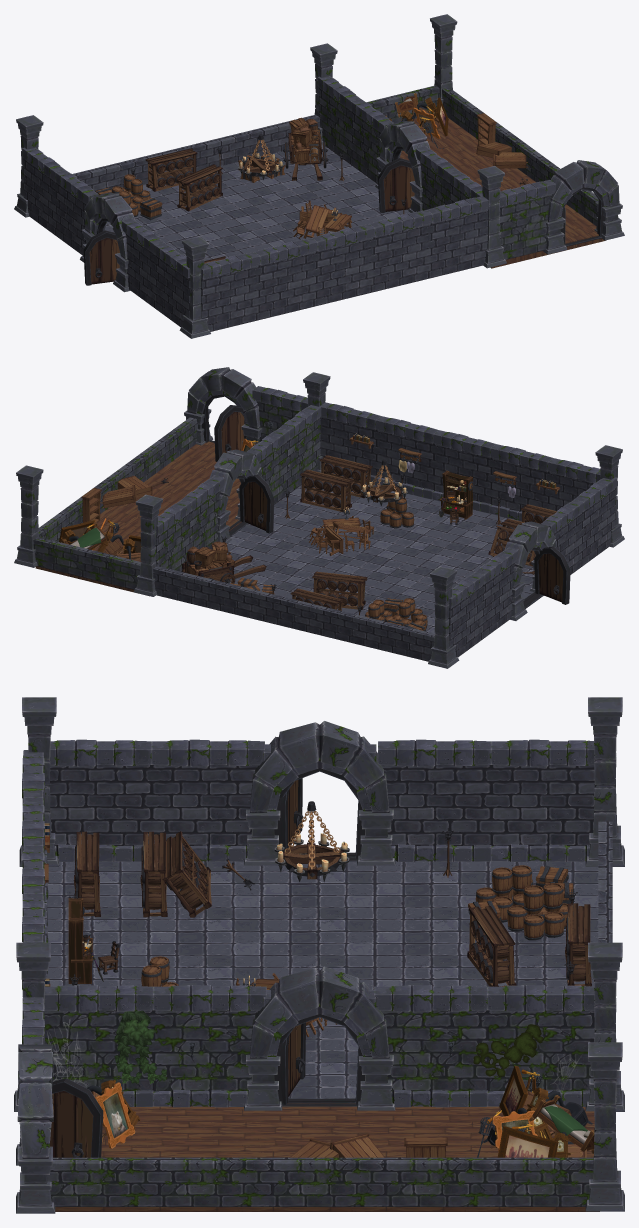
The model's file is StorageRoomAssets.gltf.
The picture shows the model from 3 angles, top to bottom: view 1: azimuth 30°, elevation 25°; view 2: azimuth 150°, elevation 25°; view 3: azimuth 270°, elevation 25°; orthographic projection. The views are drawn at different scales.
Visible parts, largest first — view 1: P_MOD_Wall_01_E_straight_med (×13), P_MOD_WallCover_01_E_straight (1) (×14), P_MOD_Gateway_Arc_01 (×3), P_MOD_Column_01_large (×4), MOD_Gateway_Door_01_med_02_door (×2), MOD_Floor_01_O_straight_med (8), MOD_Floor_01_O_straight_med (3), MOD_Floor_01_O_straight_med (13), MOD_Floor_01_O_straight_med (12), P_PROP_barrel_shelf_dungeon_01 (9), P_PROP_barrel_shelf_dungeon_01 (8), P_MOD_Wall_01_E_straight_small (8) (+26 smaller); view 2: P_MOD_Wall_01_E_straight_med (×14), P_MOD_WallCover_01_E_straight (1) (×14), P_MOD_Gateway_Arc_01 (×3), MOD_Gateway_Door_01_med_02_door (×3), P_MOD_Column_01_large (×4), MOD_Floor_01_O_straight_med (12), MOD_Floor_01_O_straight_med (11), P_MOD_Wall_01_E_straight_small (9), P_MOD_Wall_01_E_straight_small (10), P_MOD_Wall_01_E_straight_small (8), P_PROP_barrel_shelf_dungeon_01 (5), MOD_Floor_01_O_straight_med (2) (+39 smaller); view 3: P_MOD_Wall_01_E_straight_med (×8), P_MOD_WallCover_01_E_straight (1) (×13), P_MOD_Gateway_Arc_01 (×3), P_MOD_WallTrim_01_E_straight (1) (×6), P_MOD_Column_01_large (×4), MOD_Gateway_Door_01_med_02_door (×3), P_MOD_Wall_01_E_straight_small (4), P_MOD_Wall_01_E_straight_small (5), P_MOD_Wall_01_E_straight_small (6), MOD_Floor_01_O_straight_med (17), P_MOD_Wall_01_E_straight_small (3), MOD_Floor_01_O_straight_med (16) (+45 smaller).
Boxes of the visible parts, <box> form: P_MOD_Wall_01_E_straight_med (×13): <box>23,87,552,331</box>; P_MOD_WallCover_01_E_straight (1) (×14): <box>22,76,555,278</box>; P_MOD_Gateway_Arc_01 (×3): <box>84,121,619,259</box>; P_MOD_Column_01_large (×4): <box>185,29,500,320</box>; MOD_Gateway_Door_01_med_02_door (×2): <box>83,158,414,285</box>; MOD_Floor_01_O_straight_med (8): <box>238,180,327,217</box>; MOD_Floor_01_O_straight_med (3): <box>297,165,378,203</box>; MOD_Floor_01_O_straight_med (13): <box>181,193,270,231</box>; MOD_Floor_01_O_straight_med (12): <box>214,218,300,253</box>; P_PROP_barrel_shelf_dungeon_01 (9): <box>145,148,197,191</box>; P_PROP_barrel_shelf_dungeon_01 (8): <box>177,164,222,211</box>; P_MOD_Wall_01_E_straight_small (8): <box>203,128,263,166</box>; P_MOD_Wall_01_E_straight_med (×14): <box>155,400,615,657</box>; P_MOD_WallCover_01_E_straight (1) (×14): <box>156,386,617,607</box>; P_MOD_Gateway_Arc_01 (×3): <box>187,367,556,588</box>; MOD_Gateway_Door_01_med_02_door (×3): <box>214,405,570,604</box>; P_MOD_Column_01_large (×4): <box>20,460,618,650</box>; MOD_Floor_01_O_straight_med (12): <box>337,546,427,584</box>; MOD_Floor_01_O_straight_med (11): <box>371,523,460,560</box>; P_MOD_Wall_01_E_straight_small (9): <box>266,593,327,635</box>; P_MOD_Wall_01_E_straight_small (10): <box>324,607,384,649</box>; P_MOD_Wall_01_E_straight_small (8): <box>209,579,269,621</box>; P_PROP_barrel_shelf_dungeon_01 (5): <box>300,469,352,512</box>; MOD_Floor_01_O_straight_med (2): <box>227,523,311,556</box>; P_MOD_Wall_01_E_straight_med (×8): <box>44,765,594,1091</box>; P_MOD_WallCover_01_E_straight (1) (×13): <box>22,739,594,1044</box>; P_MOD_Gateway_Arc_01 (×3): <box>17,721,389,1158</box>; P_MOD_WallTrim_01_E_straight (1) (×6): <box>54,844,589,1107</box>; P_MOD_Column_01_large (×4): <box>27,726,617,1181</box>; MOD_Gateway_Door_01_med_02_door (×3): <box>49,778,305,1157</box>; P_MOD_Wall_01_E_straight_small (4): <box>158,1157,271,1206</box>; P_MOD_Wall_01_E_straight_small (5): <box>271,1157,384,1206</box>; P_MOD_Wall_01_E_straight_small (6): <box>385,1157,497,1206</box>; MOD_Floor_01_O_straight_med (17): <box>261,907,374,955</box>; P_MOD_Wall_01_E_straight_small (3): <box>47,1157,158,1206</box>; MOD_Floor_01_O_straight_med (16): <box>148,907,261,955</box>.
Bounding box in the file's own units: 32.04 × 7.38 × 21.6.
29 materials, 29 textured.
